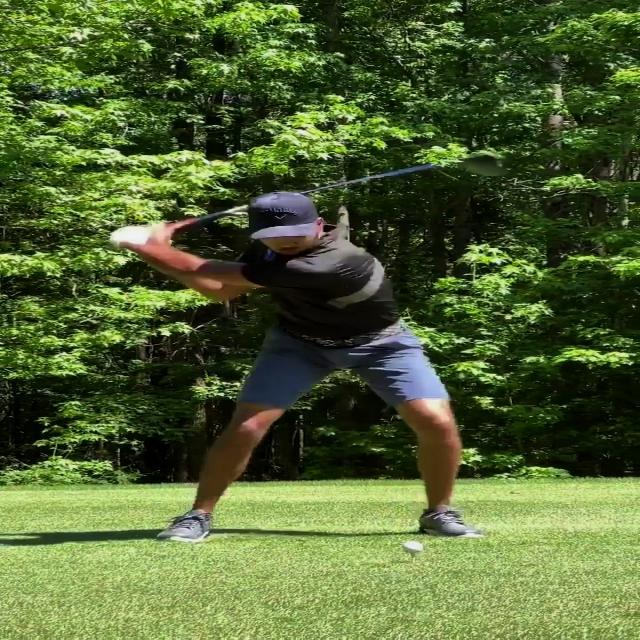ClubHandle: (109, 148, 514, 249)
ClubHead: (463, 151, 507, 177)
GolfBall: (403, 541, 425, 554)
